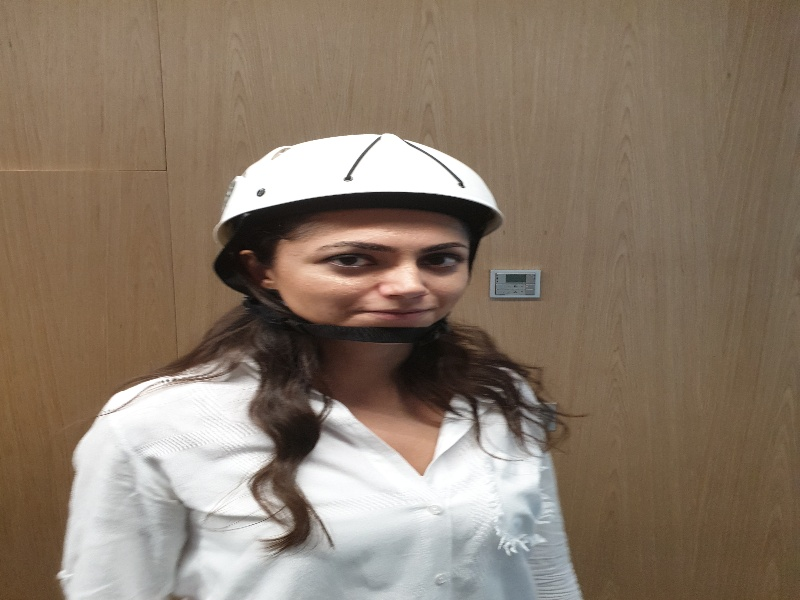Baret: (219, 135, 503, 223)
